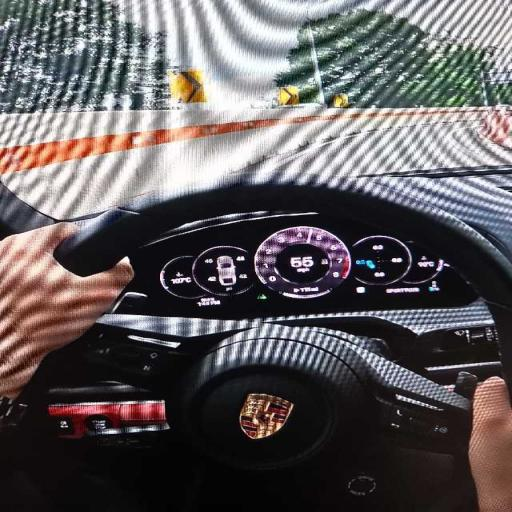car: (0, 0, 511, 511), (217, 256, 236, 285)
person: (0, 224, 133, 398), (469, 377, 511, 511)
